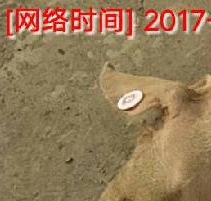text: (106, 77, 152, 121)
